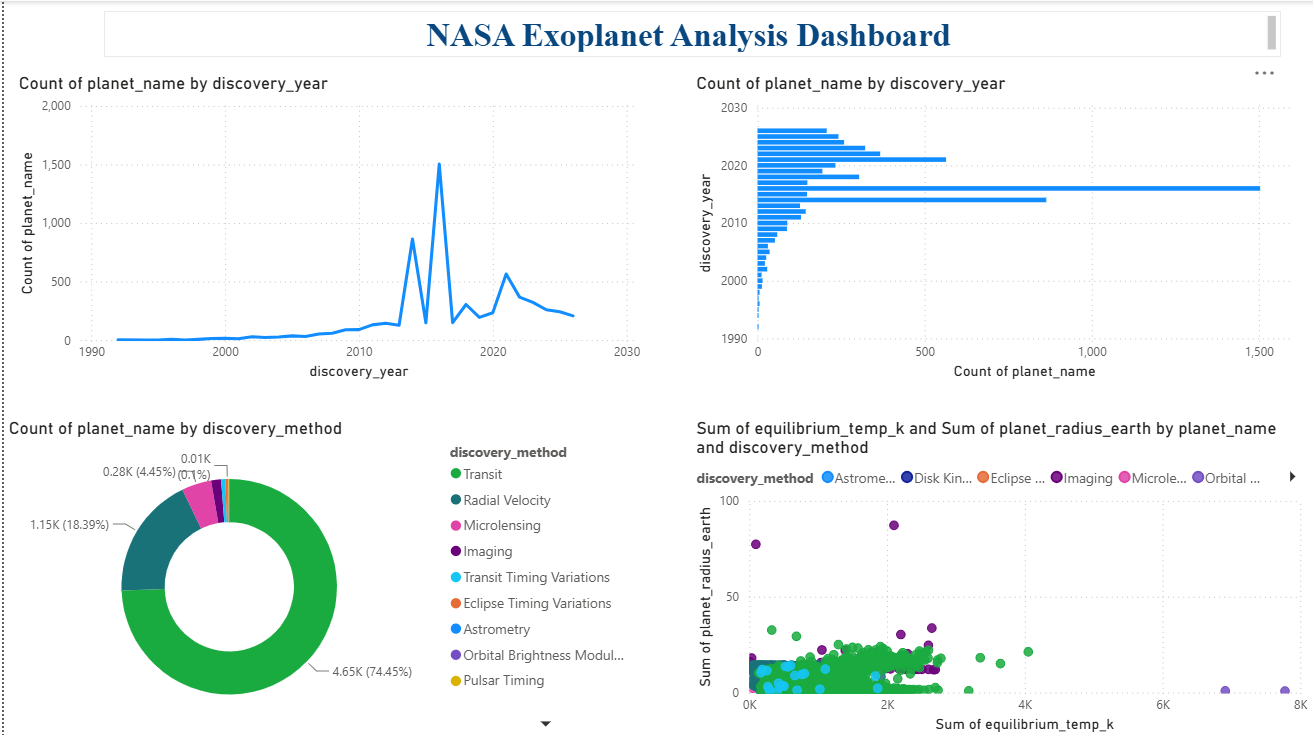

The page's visual inventory and layout, read from the dashboard file:
{"tool":"powerbi","page":{"name":"Page 1","canvas":[1280,720],"ordinal":0},"visuals":[{"type":"lineChart","fields":{"Category":["exoplanets_clean.discovery_year"],"Y":["CountNonNull(exoplanets_clean.planet_name)"]},"box":[9.6,70,617.5,306],"z":0},{"type":"donutChart","fields":{"Category":["exoplanets_clean.discovery_method"],"Y":["CountNonNull(exoplanets_clean.planet_name)"]},"box":[0,407.5,627.1,312.9],"z":1000},{"type":"scatterChart","fields":{"X":["Sum(exoplanets_clean.equilibrium_temp_k)"],"Y":["Sum(exoplanets_clean.planet_radius_earth)"],"Category":["exoplanets_clean.planet_name"],"Series":["exoplanets_clean.discovery_method"]},"box":[672.4,407.5,607.9,312.9],"z":2000},{"type":"barChart","fields":{"Category":["exoplanets_clean.discovery_year"],"Y":["CountNonNull(exoplanets_clean.planet_name)"]},"box":[672.4,70,607.9,306],"z":3000},{"type":"textbox","box":[97.4,9.6,1151.3,45.3],"z":4000}]}

Visuals, with their boxes in screenshot pixels (x1, y1, x2, y2), scaled from the page's 1280x720 canvas onto the 1313x735 screenshot:
lineChart - exoplanets_clean.discovery_year x CountNonNull(exoplanets_clean.planet_name): [left=10, top=71, right=643, bottom=384]
donutChart - exoplanets_clean.discovery_method x CountNonNull(exoplanets_clean.planet_name): [left=0, top=416, right=643, bottom=734]
scatterChart - Sum(exoplanets_clean.equilibrium_temp_k) x Sum(exoplanets_clean.planet_radius_earth): [left=690, top=416, right=1312, bottom=734]
barChart - exoplanets_clean.discovery_year x CountNonNull(exoplanets_clean.planet_name): [left=690, top=71, right=1312, bottom=384]
textbox: [left=100, top=10, right=1281, bottom=56]
